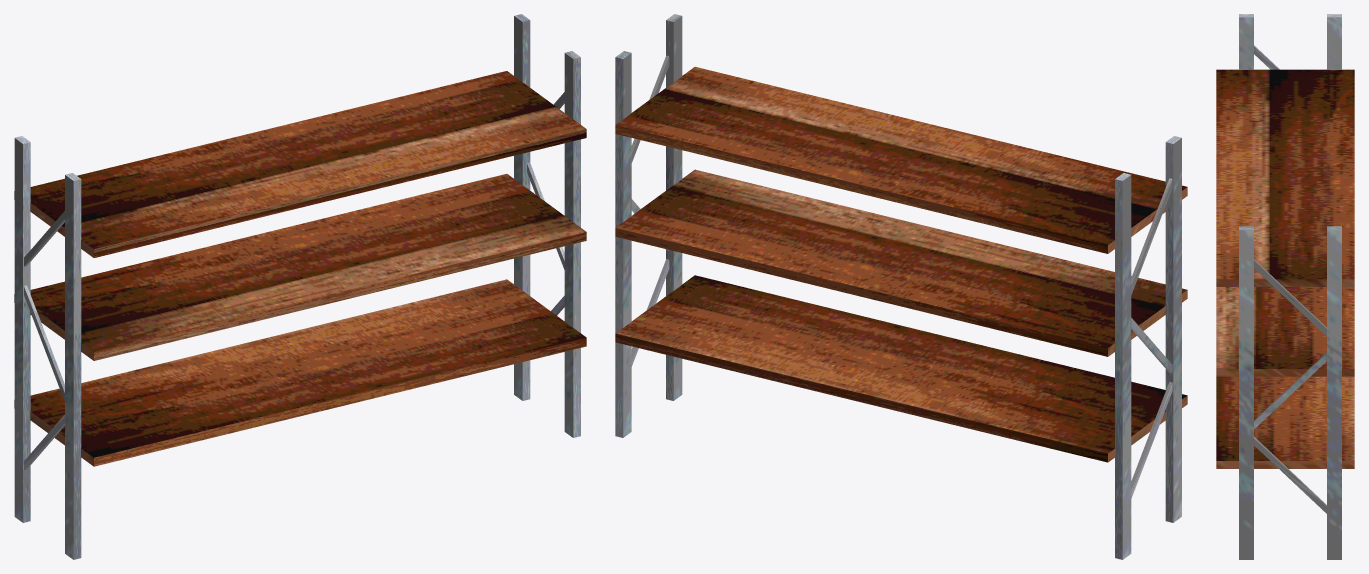
The model's file is PrateleiraGrande.fbx.
3 renders of one model, left to right at view 1: azimuth 30°, elevation 25°; view 2: azimuth 150°, elevation 25°; view 3: azimuth 270°, elevation 25°, orthographic. The views are drawn at different scales.
Parts seen in each view (by area): view 1: Cube.013; view 2: Cube.013; view 3: Cube.013.
Boxes of the visible parts, <box> form: Cube.013: <box>14,14,586,559</box>; Cube.013: <box>615,14,1187,559</box>; Cube.013: <box>1216,14,1354,559</box>.
Bounding box in the file's own units: 593 × 423 × 161.
